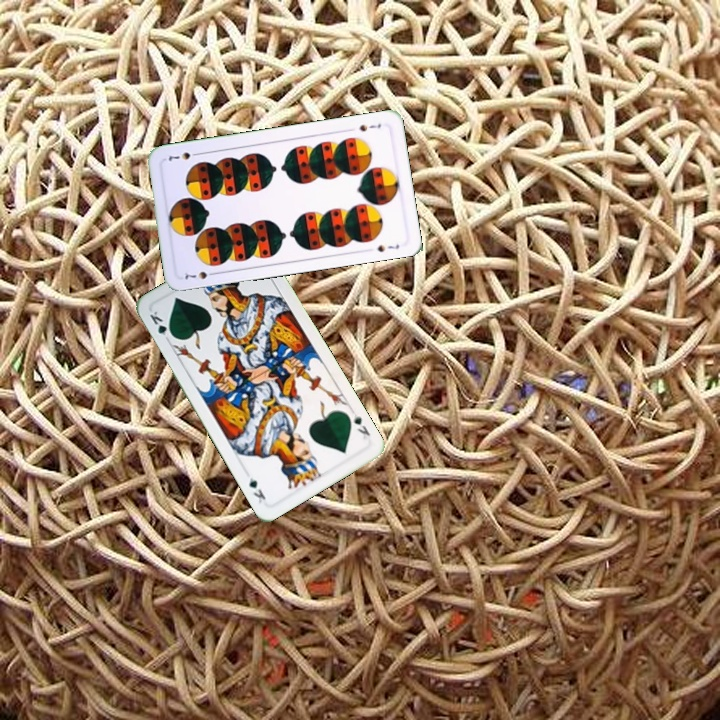GK: (145, 306, 176, 344), (349, 410, 373, 443)
S7: (181, 267, 219, 282), (355, 119, 383, 134)
